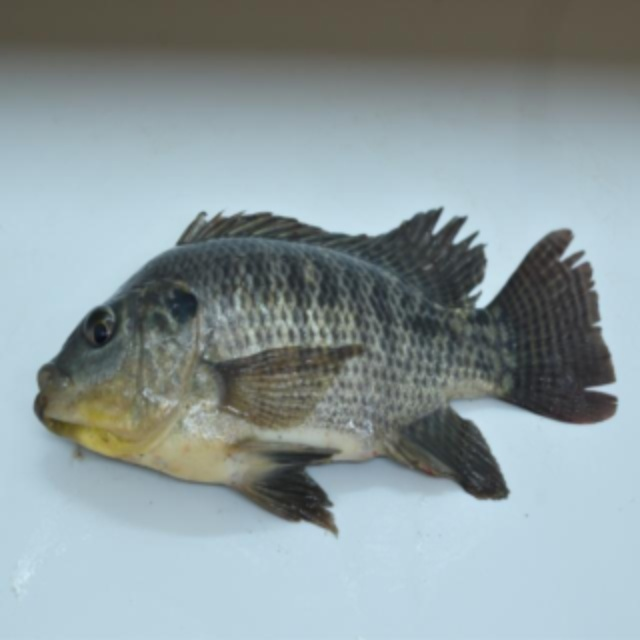Healthy Fish: (30, 204, 624, 537)
